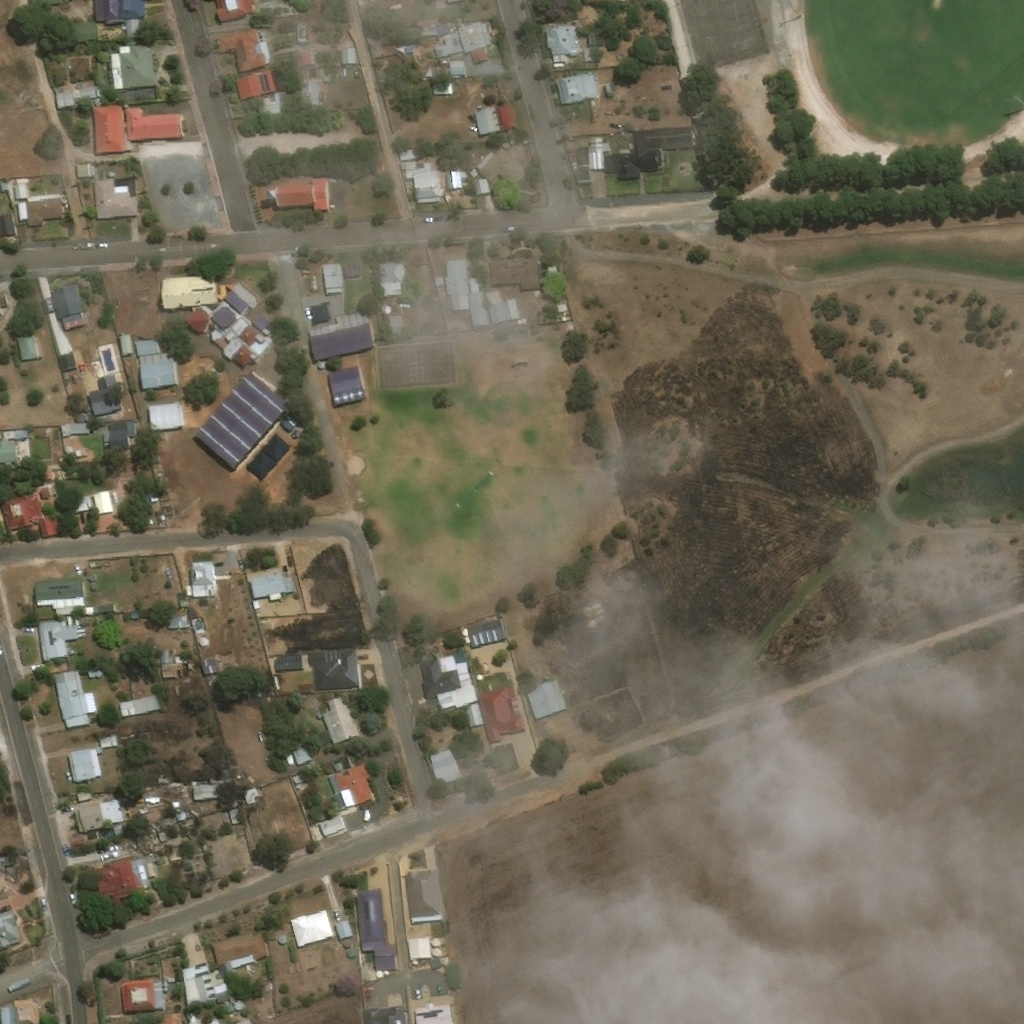0 no-damage: (194, 370, 290, 467), (187, 298, 274, 367), (602, 128, 693, 183), (308, 311, 374, 362), (421, 652, 477, 711), (477, 685, 524, 746), (355, 891, 395, 958), (210, 933, 270, 977), (215, 29, 272, 73), (540, 23, 600, 64), (307, 651, 359, 692), (125, 106, 183, 141), (405, 872, 442, 926), (93, 858, 140, 900), (161, 274, 217, 309), (523, 678, 567, 722), (92, 179, 138, 220), (183, 971, 232, 1009), (479, 148, 526, 187), (277, 177, 329, 211), (36, 620, 78, 662), (288, 911, 334, 949), (489, 258, 540, 292), (334, 762, 373, 805), (120, 45, 158, 89), (137, 352, 178, 392), (0, 493, 43, 531), (322, 698, 356, 746), (120, 979, 164, 1016), (92, 105, 125, 154), (35, 578, 85, 610), (42, 284, 85, 319), (53, 79, 100, 111), (554, 72, 598, 106), (54, 671, 84, 719), (246, 571, 294, 601), (26, 194, 69, 227), (67, 746, 103, 784), (234, 70, 276, 102), (88, 375, 120, 416), (458, 21, 499, 53), (428, 749, 462, 787), (405, 169, 439, 204), (466, 619, 505, 648), (73, 802, 106, 834), (147, 402, 183, 430), (117, 695, 159, 718), (177, 934, 204, 969), (0, 910, 23, 950), (110, 45, 130, 90), (444, 259, 469, 295), (433, 32, 464, 59), (473, 106, 500, 137), (483, 289, 506, 324), (414, 1003, 453, 1023), (108, 422, 133, 449), (587, 139, 608, 171), (362, 1007, 404, 1023), (469, 292, 488, 327), (231, 282, 257, 307), (131, 857, 150, 891), (224, 289, 249, 314), (495, 103, 516, 132), (322, 263, 341, 295), (13, 1000, 39, 1023), (17, 334, 39, 361), (308, 303, 332, 327), (461, 704, 483, 730), (318, 817, 345, 838), (331, 789, 355, 812), (408, 938, 431, 962), (100, 800, 124, 823), (91, 490, 112, 516), (59, 314, 89, 332), (299, 81, 318, 109), (575, 149, 590, 184), (160, 663, 190, 680), (189, 562, 212, 584), (134, 338, 159, 358), (38, 518, 61, 539), (333, 919, 354, 942), (60, 423, 90, 439), (378, 262, 402, 282), (273, 655, 303, 671), (165, 611, 189, 630), (193, 784, 221, 800), (56, 352, 76, 374), (64, 713, 89, 730), (71, 495, 92, 515), (473, 151, 495, 170), (501, 299, 520, 321), (182, 965, 208, 981), (0, 439, 17, 463), (373, 956, 397, 973), (199, 657, 218, 677), (80, 691, 97, 713), (258, 103, 281, 119), (277, 415, 296, 434), (293, 747, 311, 767), (445, 170, 462, 191), (380, 282, 402, 298), (190, 584, 213, 599), (472, 179, 490, 198), (451, 293, 469, 312), (241, 787, 259, 806), (340, 47, 357, 66), (118, 334, 132, 357), (326, 773, 340, 795), (16, 442, 28, 467), (98, 734, 118, 749), (432, 82, 453, 96), (55, 607, 84, 617), (343, 263, 361, 279), (2, 429, 27, 440), (295, 50, 309, 69), (472, 48, 488, 64), (398, 149, 417, 162), (0, 1006, 14, 1023), (435, 22, 450, 37), (12, 185, 26, 201), (228, 809, 241, 826), (76, 164, 91, 178), (295, 26, 306, 45), (112, 822, 128, 835), (448, 61, 462, 75), (144, 793, 160, 805), (76, 792, 92, 803), (420, 28, 437, 38), (419, 66, 432, 79), (191, 619, 203, 633), (143, 863, 155, 877), (468, 278, 479, 293), (291, 775, 303, 786), (399, 162, 415, 170), (276, 935, 287, 946), (113, 186, 128, 194), (310, 825, 320, 837), (160, 651, 169, 664), (75, 626, 85, 637), (431, 948, 442, 958), (41, 488, 51, 498), (433, 276, 442, 287), (251, 600, 260, 611), (468, 170, 478, 179), (430, 939, 440, 948), (333, 762, 343, 771), (345, 949, 355, 958), (322, 75, 330, 84), (85, 606, 93, 615), (86, 670, 95, 678), (95, 669, 102, 678), (271, 184, 277, 194), (382, 972, 389, 978), (376, 972, 381, 980), (459, 172, 465, 178)
2 major-damage: (173, 785, 193, 797)
3 destroyed: (128, 832, 148, 851), (167, 852, 181, 864), (180, 862, 192, 873), (178, 821, 192, 829)
4 un-classified: (0, 898, 14, 916), (225, 1013, 250, 1023), (97, 828, 114, 842), (0, 289, 8, 318), (240, 645, 250, 662), (431, 0, 445, 10), (227, 623, 238, 635), (251, 721, 264, 730), (204, 1015, 218, 1023), (186, 1013, 197, 1023), (313, 712, 322, 719), (446, 0, 465, 3)
